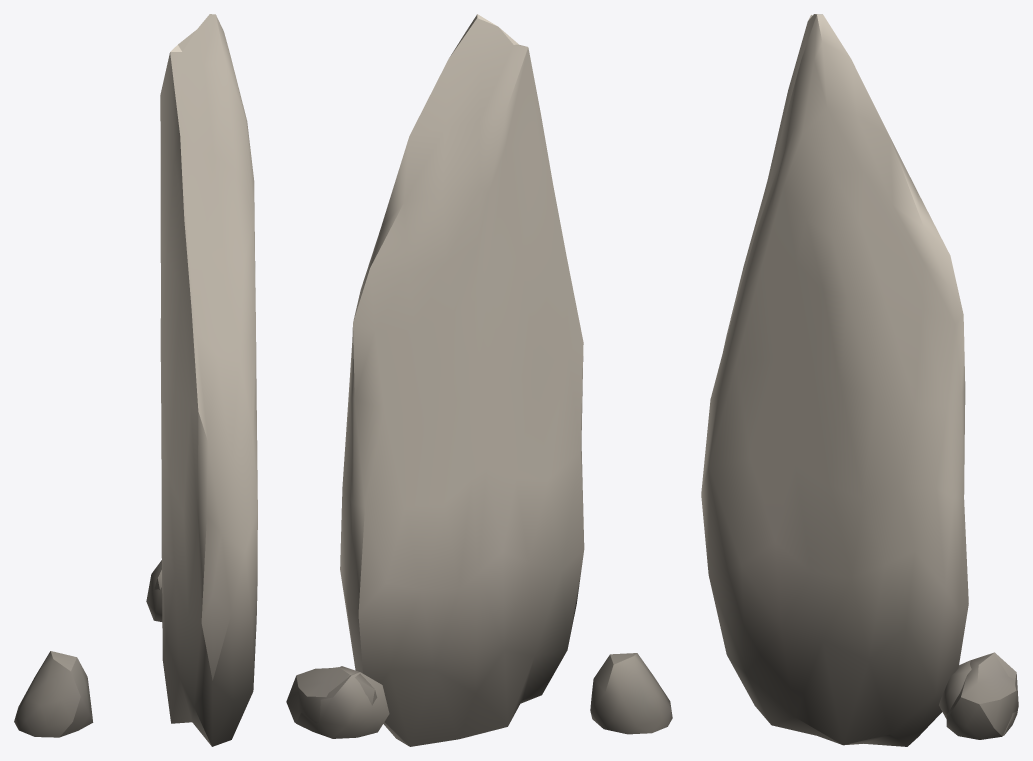
The model's file is SM_VK_Rock_Standing.fbx.
3 renders of one model, left to right at view 1: azimuth 30°, elevation 25°; view 2: azimuth 150°, elevation 25°; view 3: azimuth 270°, elevation 25°, orthographic.
Visible parts, largest first — view 1: SM_VK_Rock_Standing.001; view 2: SM_VK_Rock_Standing.001; view 3: SM_VK_Rock_Standing.001.
Part boxes in pixels (left/top/right/bottom): SM_VK_Rock_Standing.001: left=14, top=14, right=257, bottom=746; SM_VK_Rock_Standing.001: left=286, top=14, right=672, bottom=746; SM_VK_Rock_Standing.001: left=701, top=14, right=1018, bottom=746.
Bounding box in the file's own units: 1.27 × 2.87 × 1.15.
